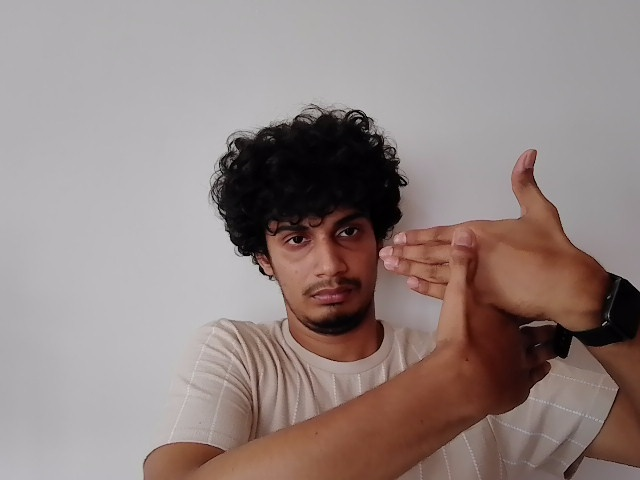work: (374, 142, 586, 408)
